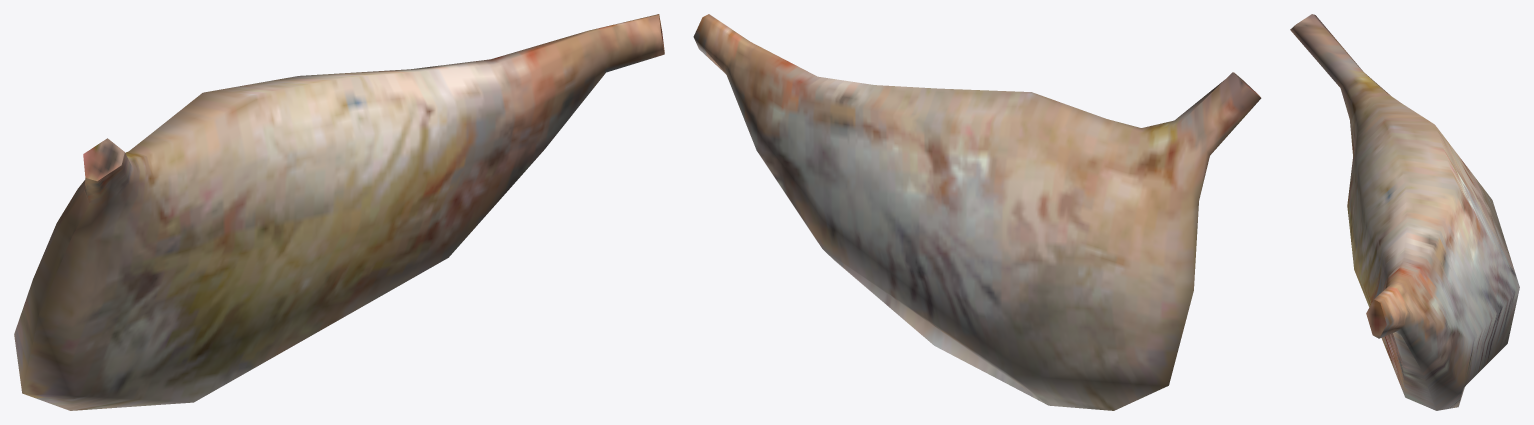
Rendered from eqp_organ_stomach_s01_l1.fbx.
3 renders of one model, left to right at view 1: azimuth 30°, elevation 25°; view 2: azimuth 150°, elevation 25°; view 3: azimuth 270°, elevation 25°, orthographic. The views are drawn at different scales.
Visible parts, largest first — view 1: mesh_node; view 2: mesh_node; view 3: mesh_node.
Part boxes in pixels (<box>): mesh_node: <box>14,14,664,410</box>; mesh_node: <box>693,14,1261,410</box>; mesh_node: <box>1290,14,1519,410</box>.
Bounding box in the file's own units: 0.8139 × 0.4481 × 0.3026.
